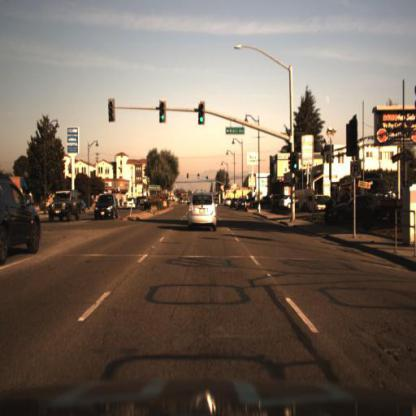car: (1, 177, 43, 267), (331, 191, 382, 218), (187, 194, 219, 235), (48, 190, 82, 224), (94, 191, 122, 222), (278, 194, 301, 216), (285, 196, 301, 212), (237, 194, 249, 213)
trafficLight: (106, 95, 116, 121), (109, 98, 117, 127)
trafficLight-Green: (290, 145, 302, 181), (159, 99, 169, 124), (199, 99, 207, 124), (293, 155, 301, 176)
